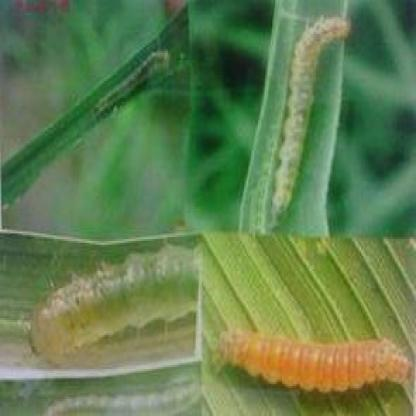leaf-folder: (245, 12, 356, 231), (215, 303, 408, 405), (29, 250, 194, 350), (92, 34, 176, 122), (37, 377, 202, 416)
